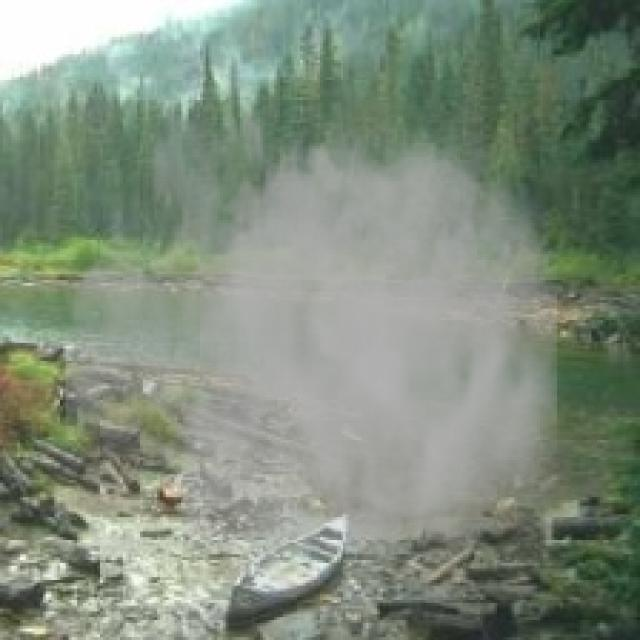smoke: (66, 46, 588, 597)
